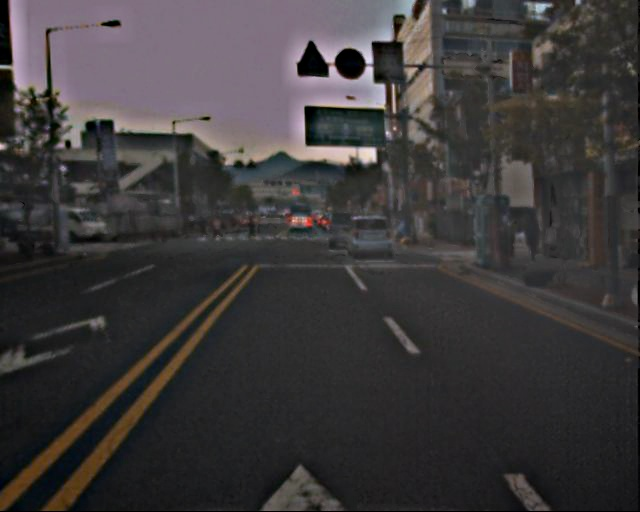person: (523, 210, 546, 266), (245, 211, 257, 241), (212, 215, 223, 242), (200, 215, 209, 236)
